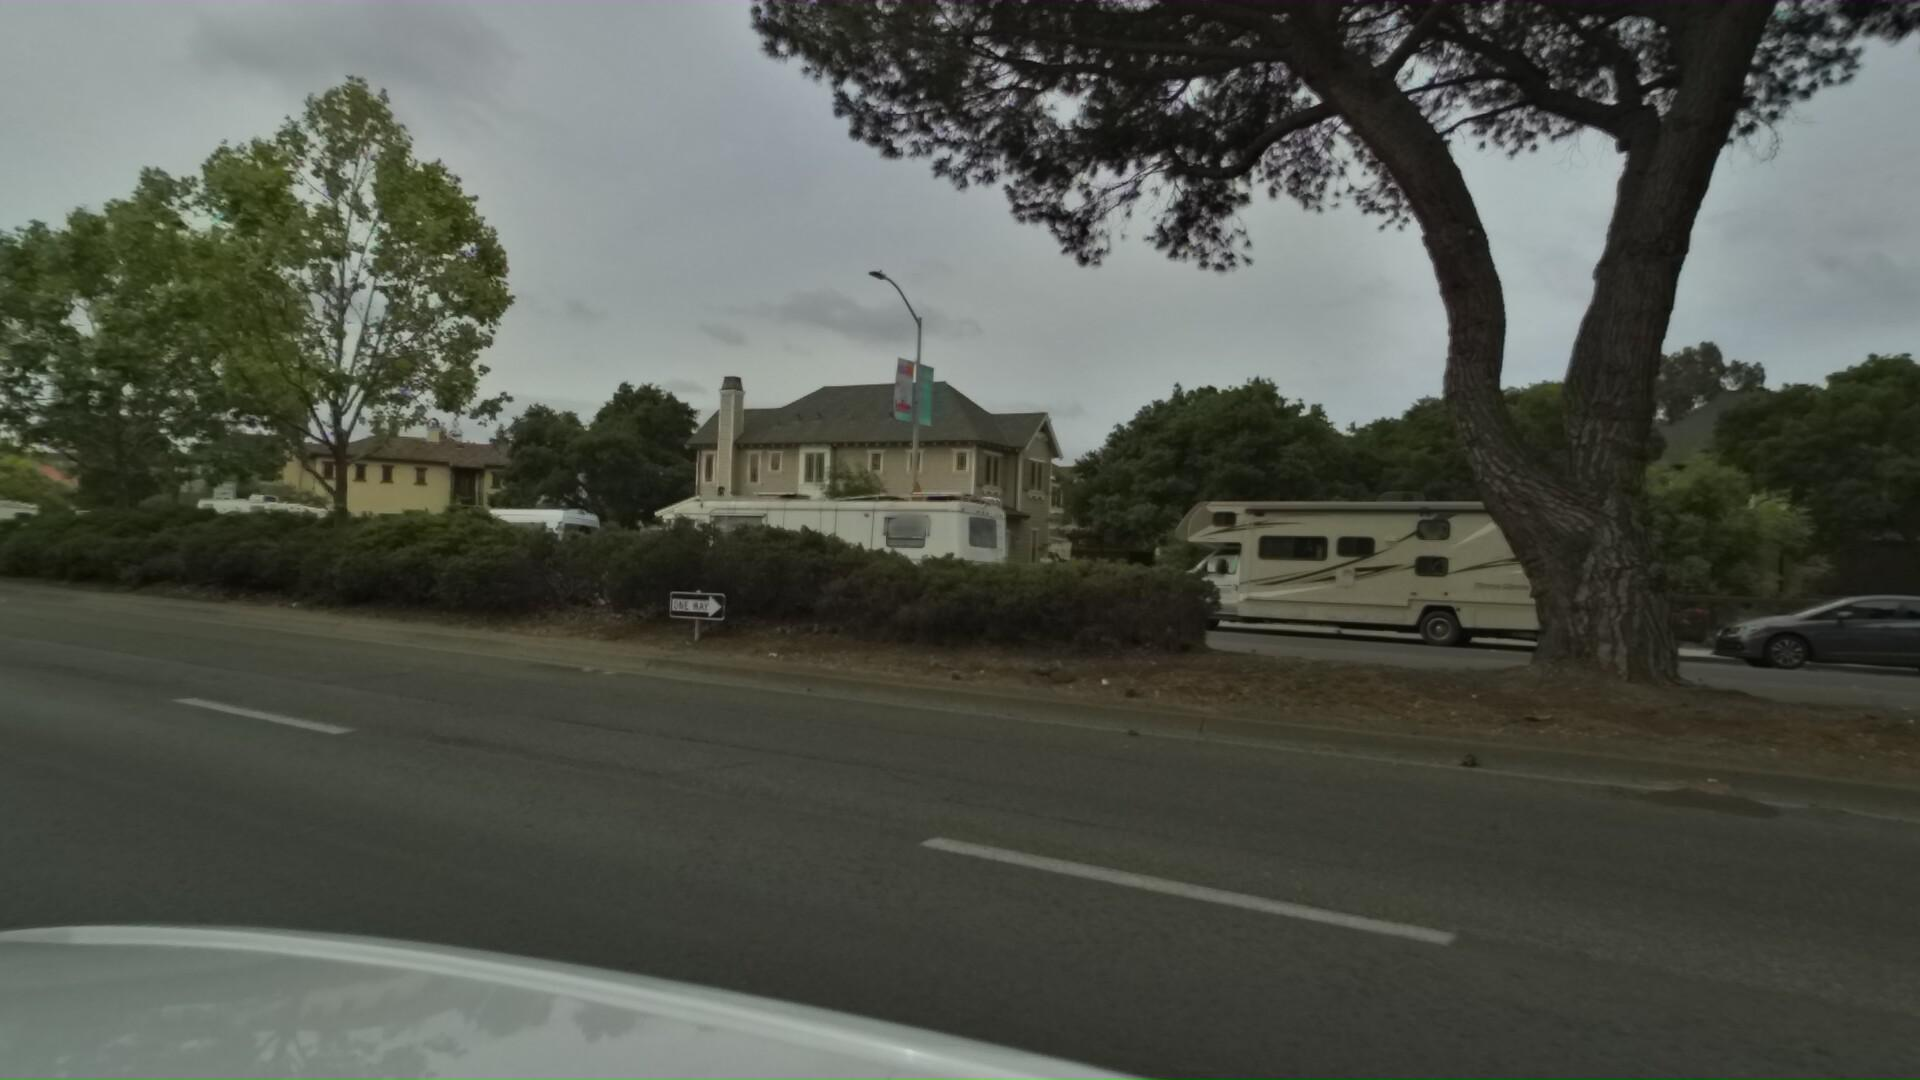car: (1658, 583, 1920, 684), (414, 497, 605, 596)
other_vehicle: (1116, 477, 1617, 665), (644, 472, 1106, 636), (182, 495, 334, 574), (0, 491, 44, 556)
